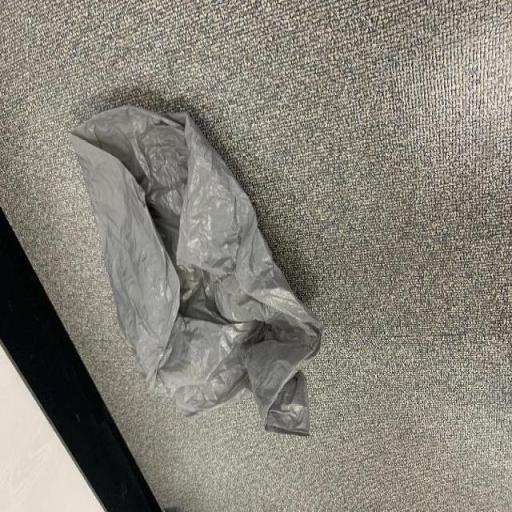plastic-bag: (68, 101, 324, 444)
